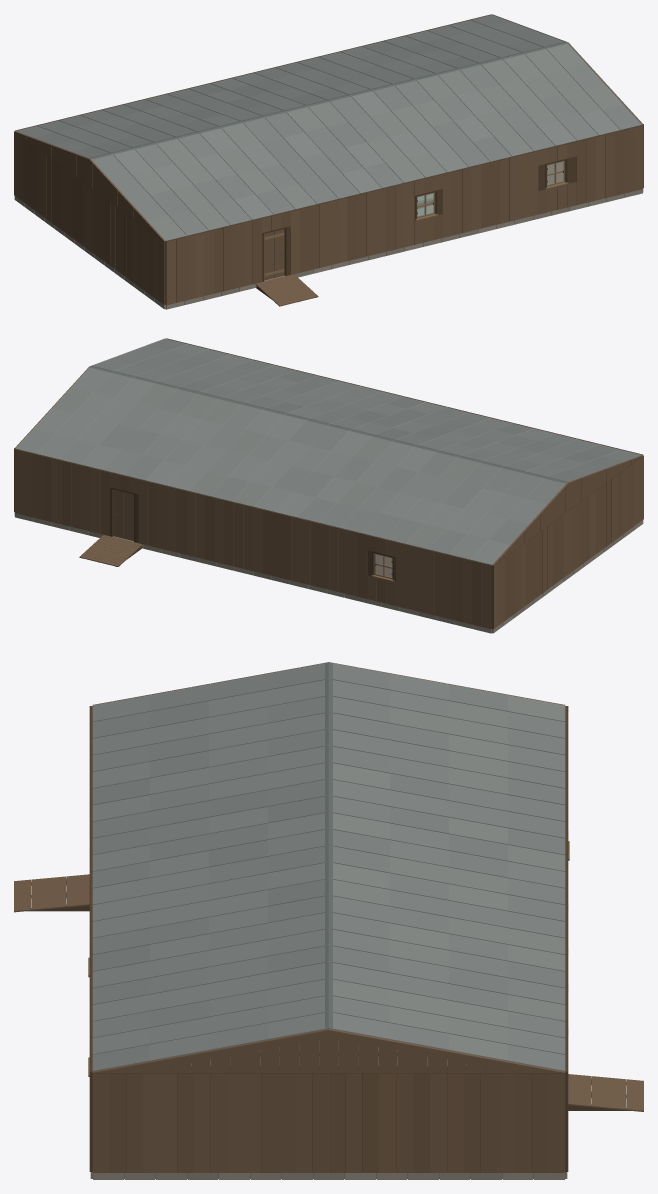
Rendered from bld_15.glb.
The picture shows the model from 3 angles, top to bottom: view 1: azimuth 30°, elevation 25°; view 2: azimuth 150°, elevation 25°; view 3: azimuth 270°, elevation 25°; orthographic projection. The views are drawn at different scales.
Parts seen in each view (by area): view 1: shell__detail_vertex_roof, shell__detail_vertex_wood, shell__detail_vertex_stone, shell__detail_vertex_roof_edge, outer_0__detail_vertex_wood; view 2: shell__detail_vertex_roof, shell__detail_vertex_wood, shell__detail_vertex_stone, shell__detail_vertex_roof_edge, outer_1__detail_vertex_wood; view 3: shell__detail_vertex_roof, shell__detail_vertex_wood, shell__detail_vertex_stone, shell__detail_vertex_roof_edge.
Boxes of the visible parts, x1,y1,x2,y2 form: shell__detail_vertex_roof: (16, 14, 641, 240); shell__detail_vertex_wood: (14, 14, 643, 306); shell__detail_vertex_stone: (14, 189, 643, 309); shell__detail_vertex_roof_edge: (90, 41, 640, 240); outer_0__detail_vertex_wood: (264, 229, 284, 280); shell__detail_vertex_roof: (16, 338, 641, 564); shell__detail_vertex_wood: (14, 338, 643, 629); shell__detail_vertex_stone: (14, 513, 643, 633); shell__detail_vertex_roof_edge: (17, 365, 567, 564); outer_1__detail_vertex_wood: (113, 489, 133, 540); shell__detail_vertex_roof: (92, 663, 565, 1071); shell__detail_vertex_wood: (14, 663, 643, 1172); shell__detail_vertex_stone: (90, 1172, 567, 1179); shell__detail_vertex_roof_edge: (325, 662, 332, 1028).
Bounding box in the file's own units: 22.15 × 4.27 × 16.
